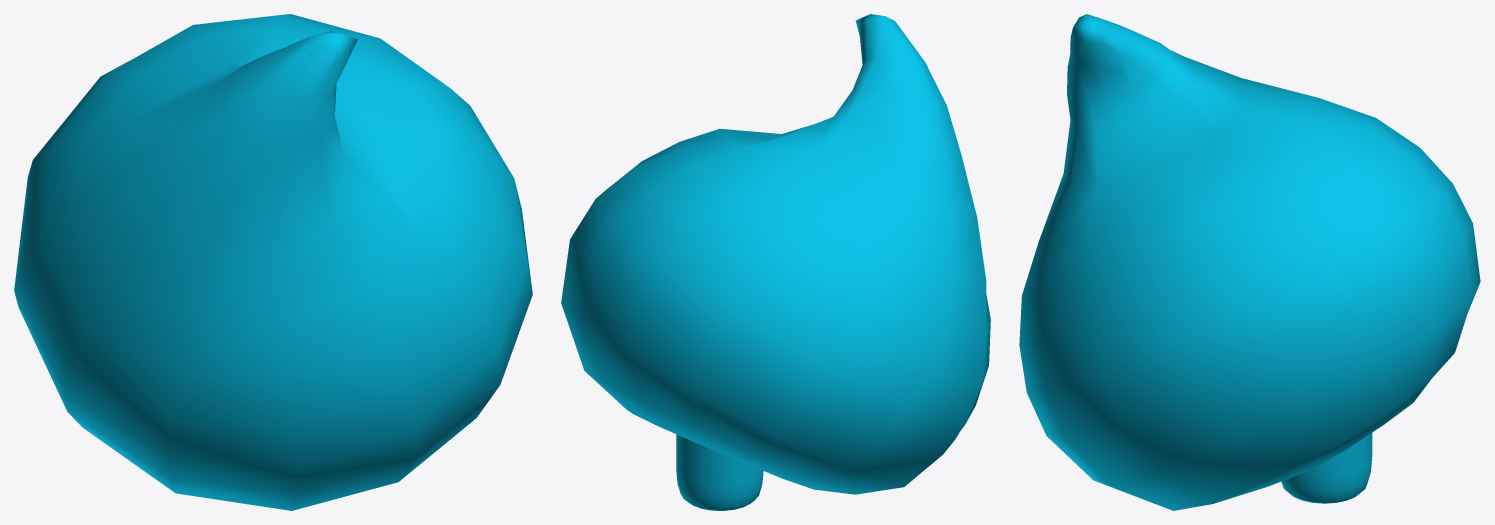
File: Bush_3.fbx
3 views of the same model, side by side, from view 1: azimuth 30°, elevation 25°; view 2: azimuth 150°, elevation 25°; view 3: azimuth 270°, elevation 25° (orthographic). The views are drawn at different scales.
Visible parts, largest first — view 1: Bush_3_low; view 2: Bush_3_low; view 3: Bush_3_low.
Part boxes in pixels (x1,y1,x2,y2): Bush_3_low: (14, 14, 532, 510); Bush_3_low: (561, 14, 990, 510); Bush_3_low: (1019, 14, 1480, 510).
Bounding box in the file's own units: 0.4343 × 0.4727 × 0.4295.
